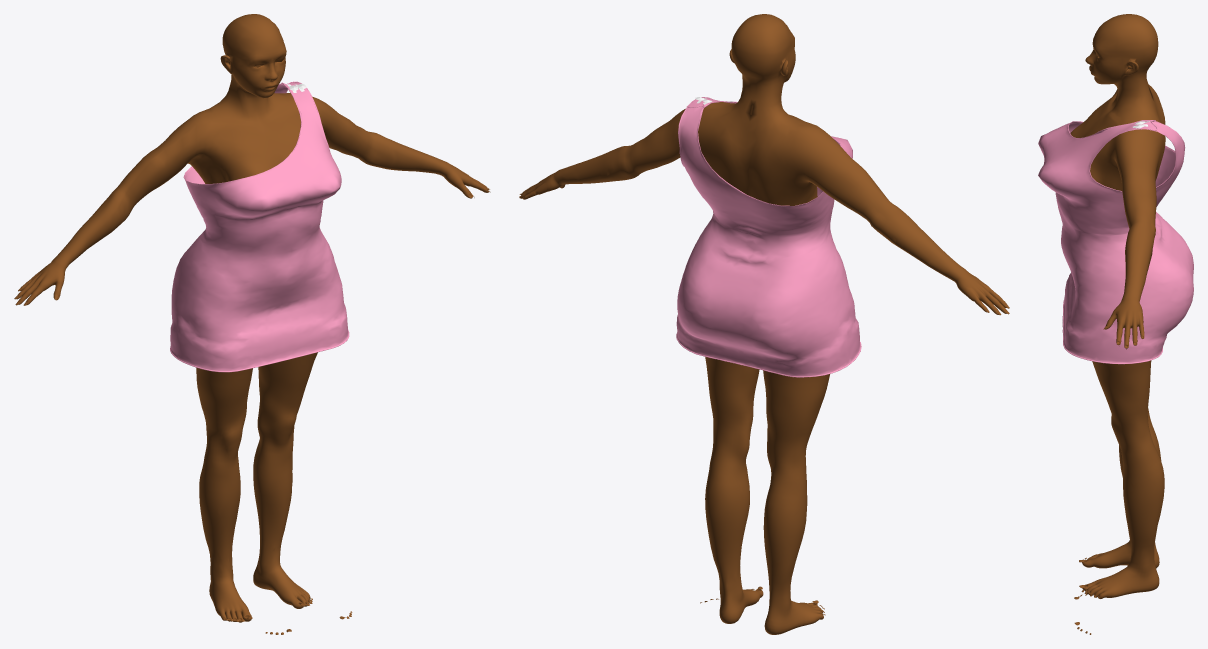
The model's file is dress1.glb.
3 views of the same model, side by side, from view 1: azimuth 30°, elevation 25°; view 2: azimuth 150°, elevation 25°; view 3: azimuth 270°, elevation 25° (orthographic). The views are drawn at different scales.
Parts seen in each view (by area): view 1: Body.003, WhiteDress; view 2: Body.003, WhiteDress; view 3: Body.003, WhiteDress.
Boxes of the visible parts, x1,y1,x2,y2 form: Body.003: (17,14,490,622); WhiteDress: (170,81,349,372); Body.003: (519,14,1006,634); WhiteDress: (676,97,861,377); Body.003: (1070,14,1165,598); WhiteDress: (1038,120,1193,364).
Bounding box in the file's own units: 1.58 × 1.91 × 0.4642.
